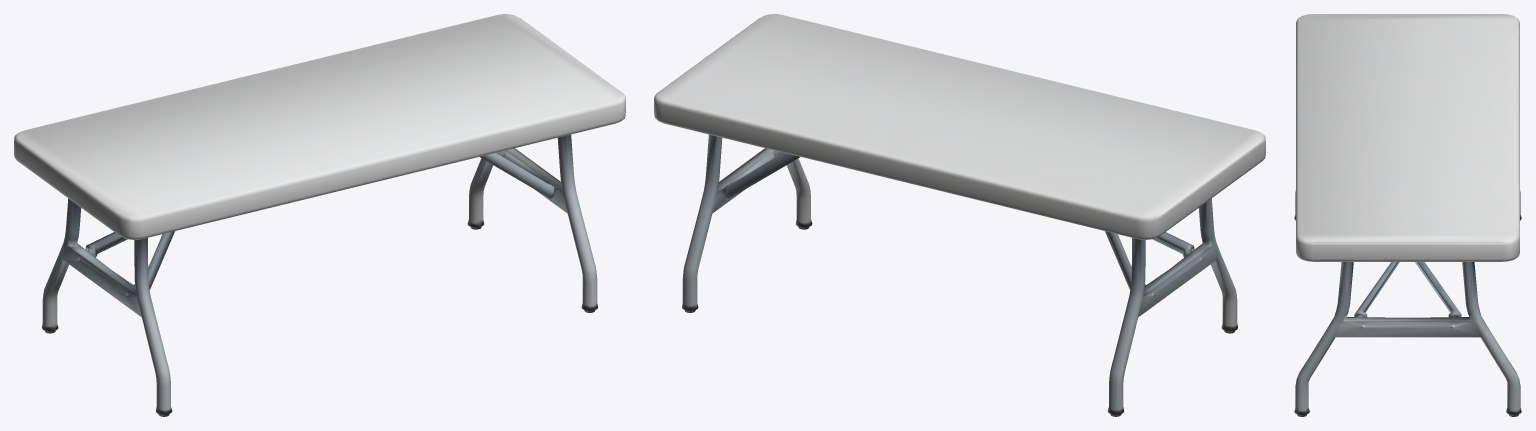
File: Meja.fbx
The picture shows the model from 3 angles, left to right: view 1: azimuth 30°, elevation 25°; view 2: azimuth 150°, elevation 25°; view 3: azimuth 270°, elevation 25°; orthographic projection. The views are drawn at different scales.
Parts seen in each view (by area): view 1: mesh_rep_0_ori_repair_quad; view 2: mesh_rep_0_ori_repair_quad; view 3: mesh_rep_0_ori_repair_quad.
Boxes of the visible parts, x1,y1,x2,y2 form: mesh_rep_0_ori_repair_quad: (14,14,625,416); mesh_rep_0_ori_repair_quad: (654,14,1265,416); mesh_rep_0_ori_repair_quad: (1294,14,1521,416).
Bounding box in the file's own units: 245 × 95.15 × 103.
1 material, 1 textured.
